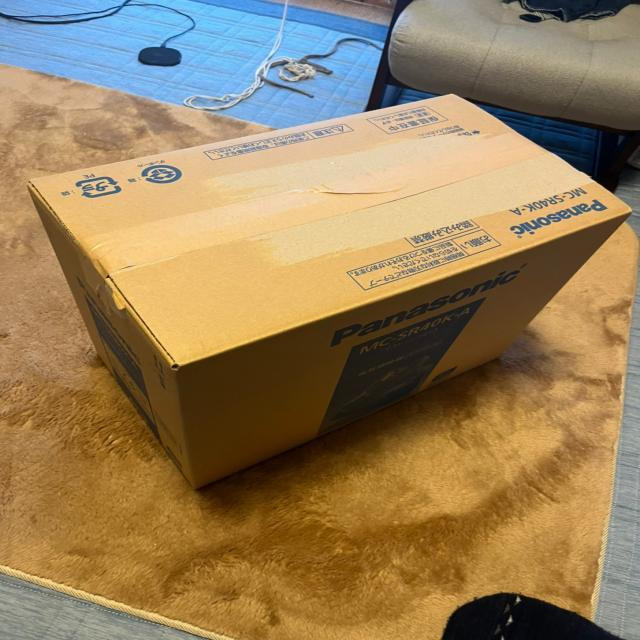-: (19, 91, 631, 495)
